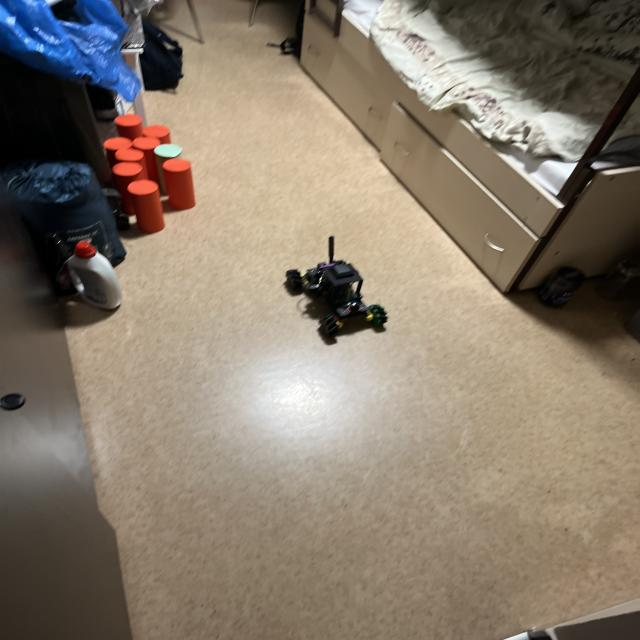robot: (284, 236, 387, 337)
